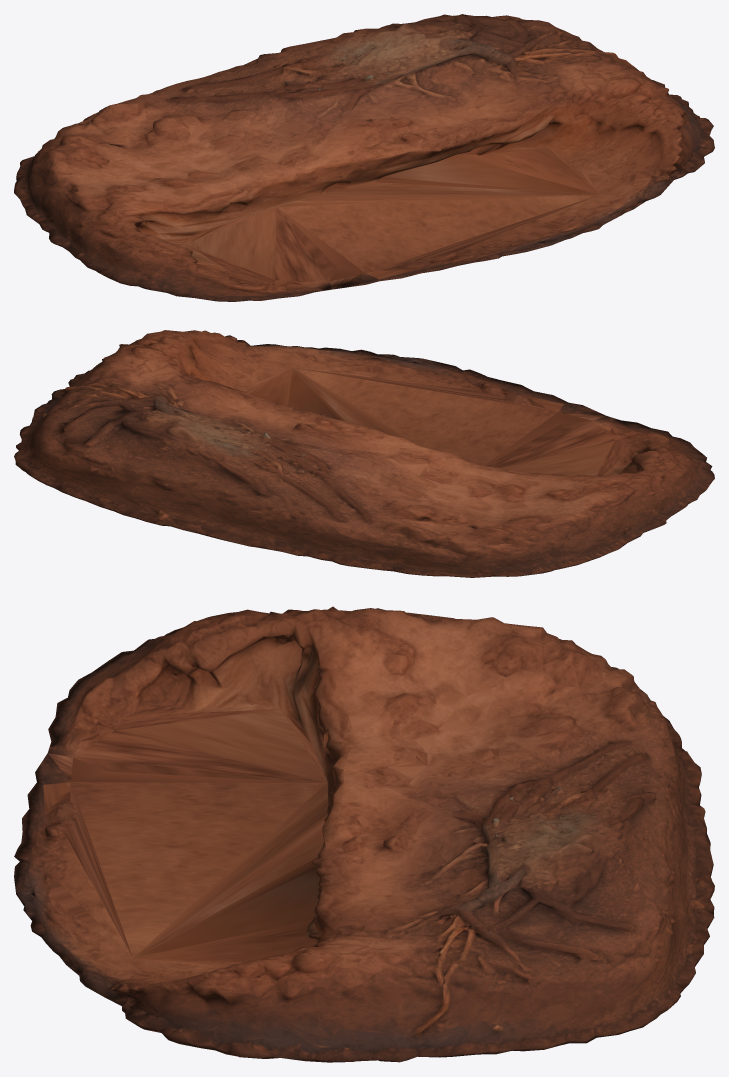
File: clay-0-lod0.gltf
3 renders of one model, top to bottom at view 1: azimuth 30°, elevation 25°; view 2: azimuth 150°, elevation 25°; view 3: azimuth 270°, elevation 25°, orthographic. The views are drawn at different scales.
Visible parts, largest first — view 1: clay stage 6 L0; view 2: clay stage 6 L0; view 3: clay stage 6 L0.
Part boxes in pixels (x1,y1,x2,y2): clay stage 6 L0: (14,14,714,301); clay stage 6 L0: (14,330,714,577); clay stage 6 L0: (14,606,714,1062).
Size of the model in its own units: 1.76 by 0.1665 by 1.21.
Materials: 1 (1 with a texture image).
